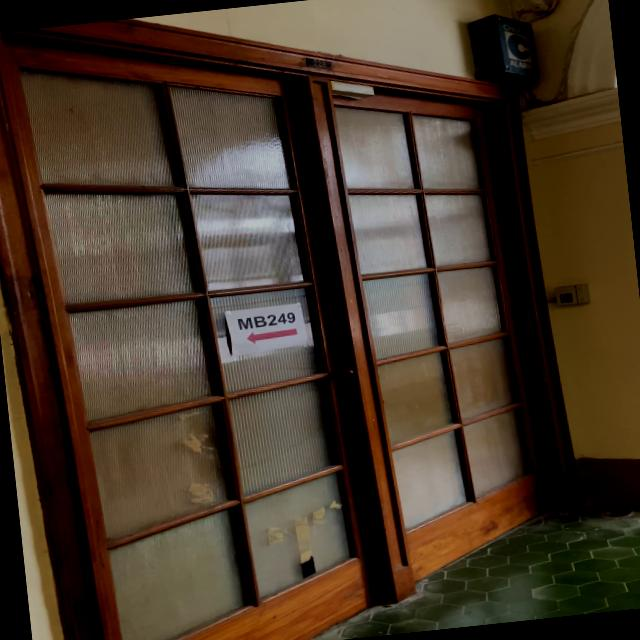room228: (304, 52, 334, 74)
